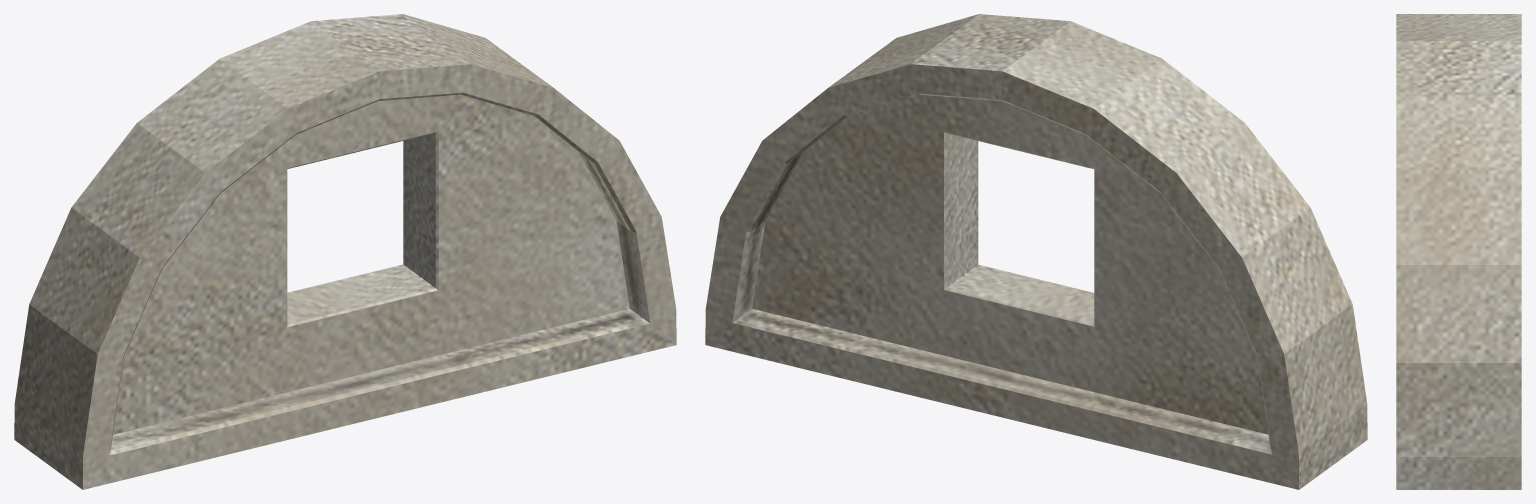
Rendered from RoofArchCap.fbx.
3 renders of one model, left to right at view 1: azimuth 30°, elevation 25°; view 2: azimuth 150°, elevation 25°; view 3: azimuth 270°, elevation 25°, orthographic. The views are drawn at different scales.
Visible parts, largest first — view 1: RoofArch; view 2: RoofArch; view 3: RoofArch.
Part boxes in pixels (x1=…): RoofArch: x1=14, y1=14, x2=676, y2=489; RoofArch: x1=705, y1=14, x2=1367, y2=489; RoofArch: x1=1396, y1=14, x2=1521, y2=489.
Bounding box in the file's own units: 200 × 112 × 40.
Materials: 1 (1 with a texture image).
